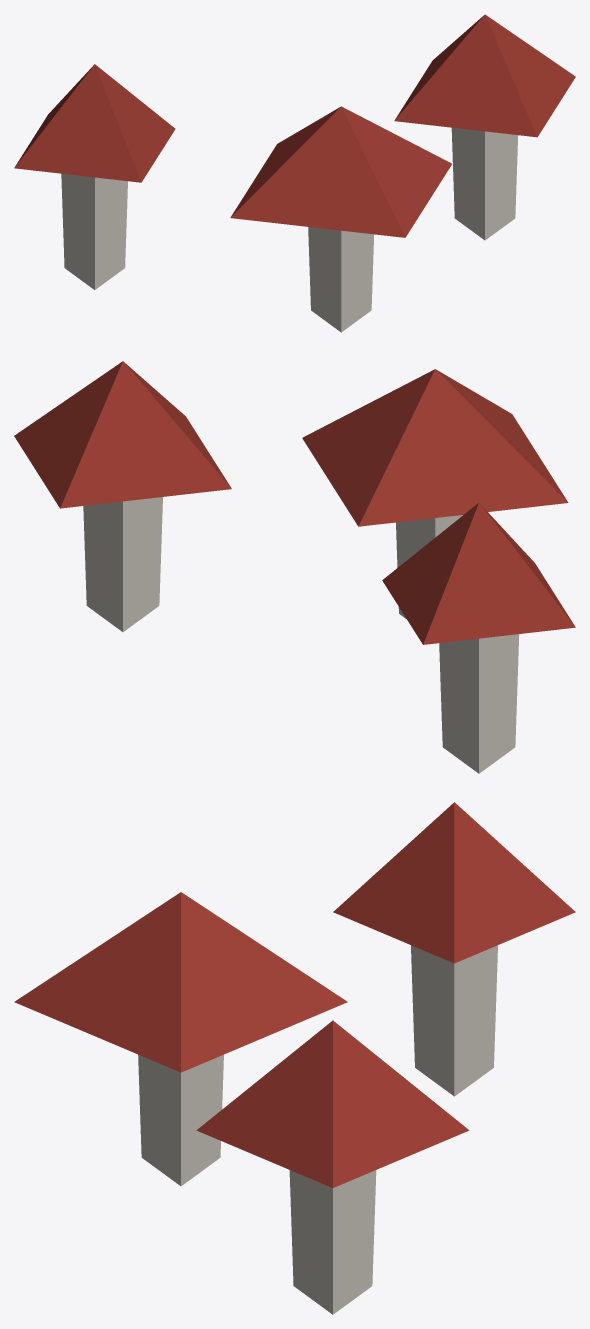
The model's file is mushrooms.glb.
3 views of the same model, one above another, from view 1: azimuth 30°, elevation 25°; view 2: azimuth 150°, elevation 25°; view 3: azimuth 270°, elevation 25° (orthographic). The views are drawn at different scales.
Parts seen in each view (by area): view 1: mushrooms; view 2: mushrooms; view 3: mushrooms.
Boxes of the visible parts, x1,y1,x2,y2 form: mushrooms: [14, 14, 575, 332]; mushrooms: [14, 361, 575, 773]; mushrooms: [14, 802, 575, 1314].
Bounding box in the file's own units: 0.51 × 0.2 × 0.37.
1 material, 1 textured.
